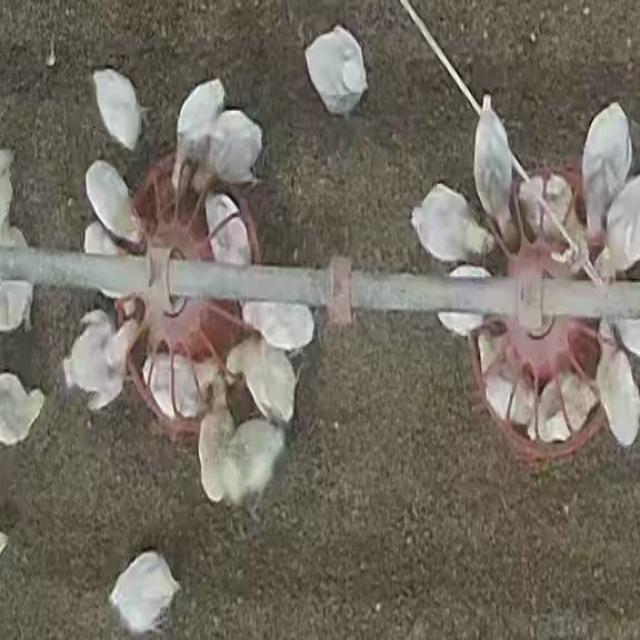chicken: (56, 306, 146, 416), (219, 336, 313, 432), (406, 178, 495, 268), (578, 97, 634, 239), (472, 94, 522, 248), (166, 73, 227, 194), (233, 417, 295, 524), (304, 19, 372, 114), (108, 550, 181, 638), (82, 159, 142, 253), (194, 366, 234, 507), (594, 330, 640, 449), (204, 109, 264, 193), (140, 352, 208, 425), (90, 67, 146, 151), (433, 266, 493, 339), (600, 173, 640, 281), (523, 169, 580, 244), (542, 371, 598, 441), (201, 192, 253, 266), (241, 299, 314, 350), (483, 364, 527, 430)
